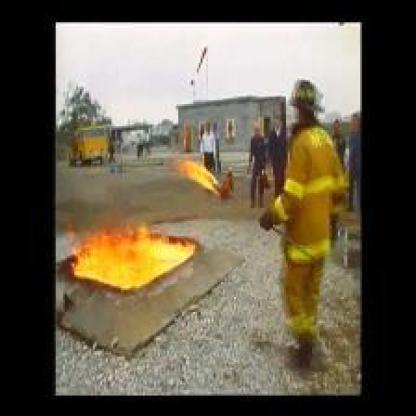fire: (60, 216, 200, 292), (173, 157, 221, 192)
